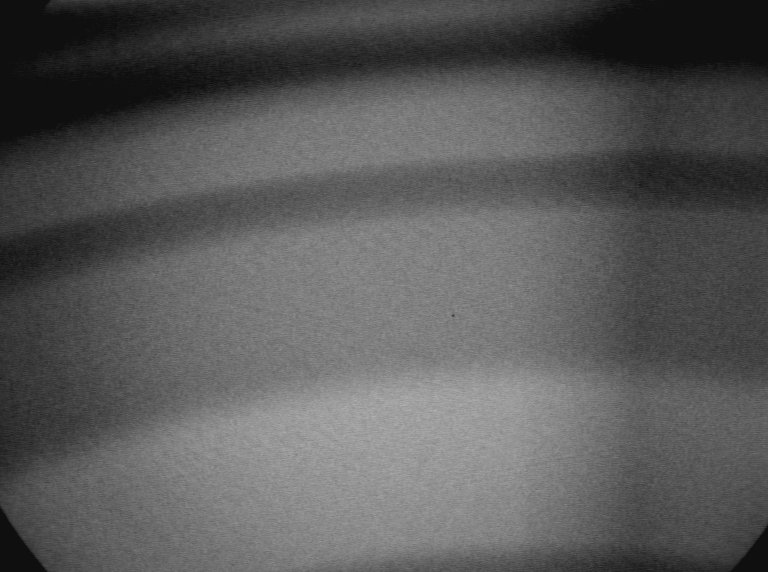defect: (572, 4, 699, 569)
